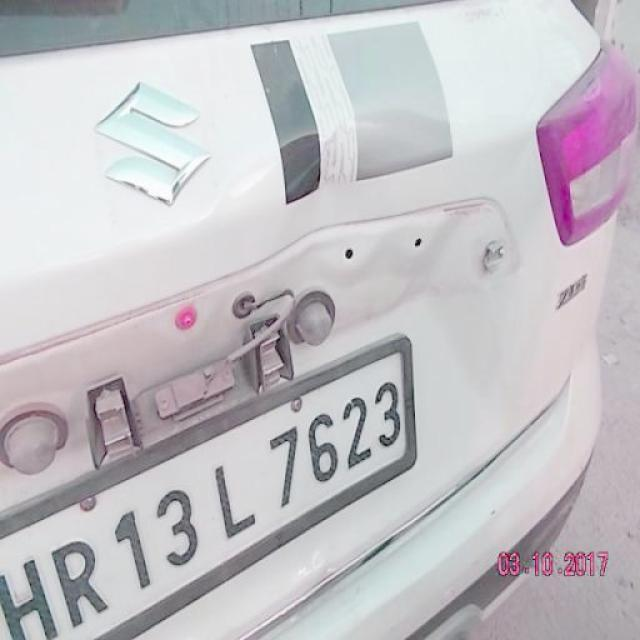car damage: (211, 119, 524, 347)
